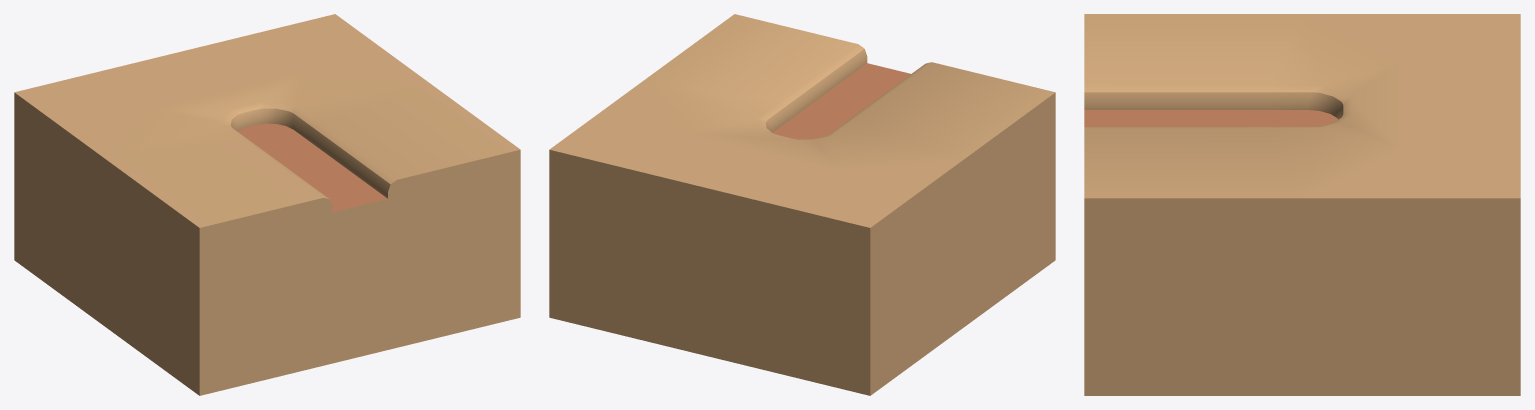
File: square_sand_roadA.glb
The picture shows the model from 3 angles, left to right: view 1: azimuth 30°, elevation 25°; view 2: azimuth 150°, elevation 25°; view 3: azimuth 270°, elevation 25°; orthographic projection. The views are drawn at different scales.
Visible parts, largest first — view 1: square_sand_roadA; view 2: square_sand_roadA; view 3: square_sand_roadA.
Boxes of the visible parts, box(x1,y1,x2,y2) form: square_sand_roadA: box(14, 14, 520, 395); square_sand_roadA: box(549, 14, 1055, 395); square_sand_roadA: box(1084, 14, 1520, 395).
Size of the model in its own units: 2 by 1 by 2.
